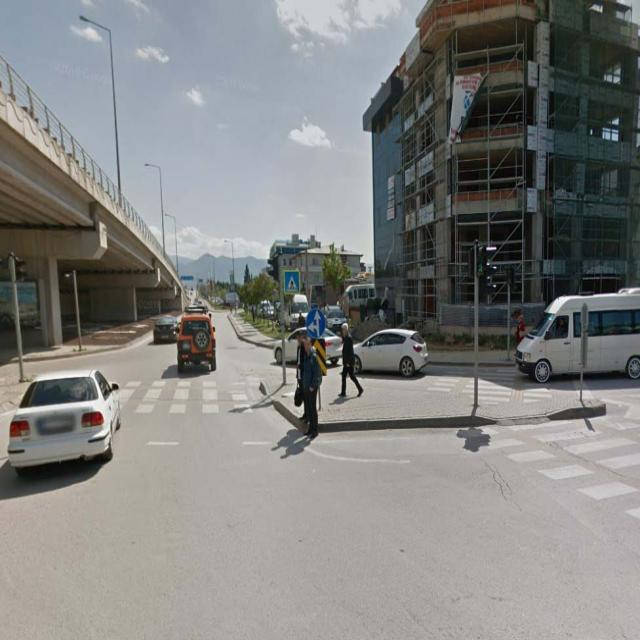ilerisol: (306, 309, 326, 339)
